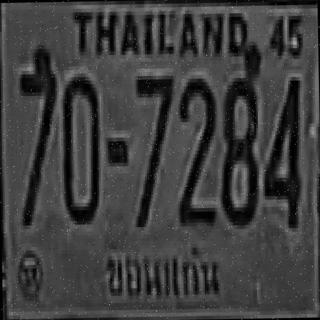N00: (60, 73, 100, 221)
N02: (176, 75, 215, 223)
N04: (262, 73, 301, 225)
N07: (17, 43, 57, 224), (134, 72, 174, 223)
N08: (218, 74, 259, 222)
P18: (99, 237, 227, 308)
